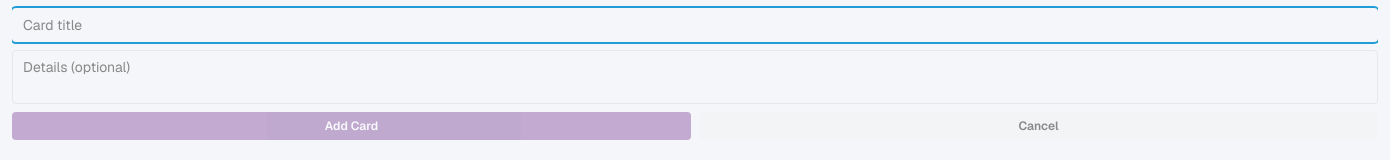
Scenario: AddCardForm › submit button is enabled after typing a title
Type "My task" into the field with placeholder "Card title". click: [695, 25]
box: top-left (12, 8), bottom-right (1378, 42)
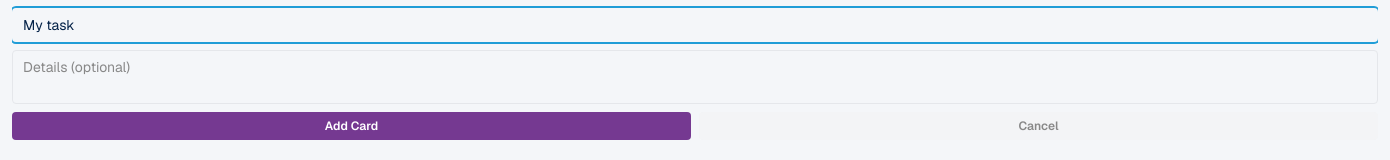
Check: the button "Add Card" is enabled, box top-left (12, 112), bottom-right (691, 140)
